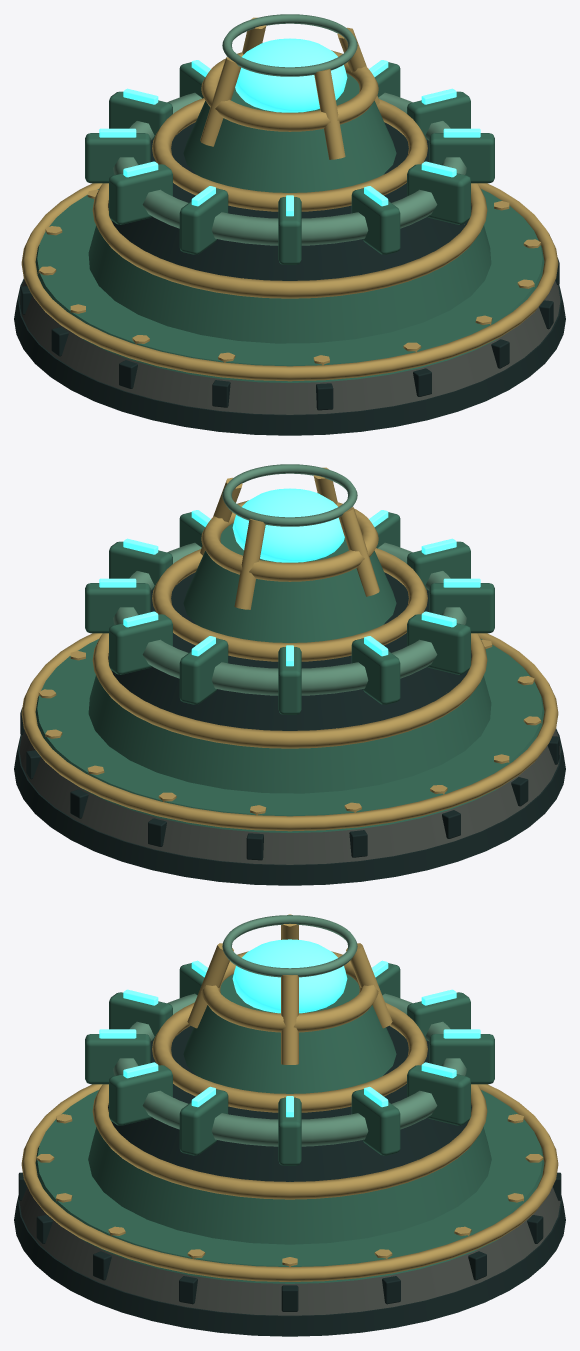
File: warrior-2.glb
The picture shows the model from 3 angles, top to bottom: view 1: azimuth 30°, elevation 25°; view 2: azimuth 150°, elevation 25°; view 3: azimuth 270°, elevation 25°; orthographic projection.
Visible parts, largest first — view 1: warrior-2, turret-yaw; view 2: warrior-2, turret-yaw; view 3: warrior-2, turret-yaw.
Boxes of the visible parts, x1=… form: warrior-2: x1=14, y1=60, x2=565, y2=435; turret-yaw: x1=183, y1=14, x2=396, y2=192; warrior-2: x1=14, y1=510, x2=565, y2=885; turret-yaw: x1=183, y1=464, x2=396, y2=642; warrior-2: x1=14, y1=960, x2=565, y2=1336; turret-yaw: x1=183, y1=914, x2=396, y2=1093.
Bounding box in the file's own units: 0.8888 × 0.4929 × 0.8888.
